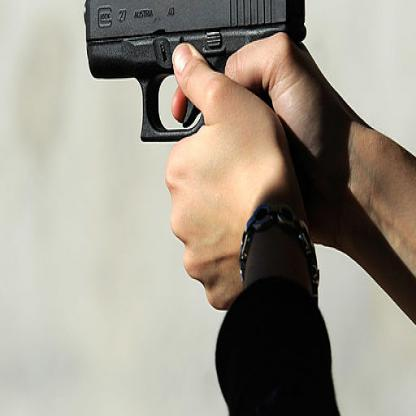gun: (78, 0, 314, 209)
